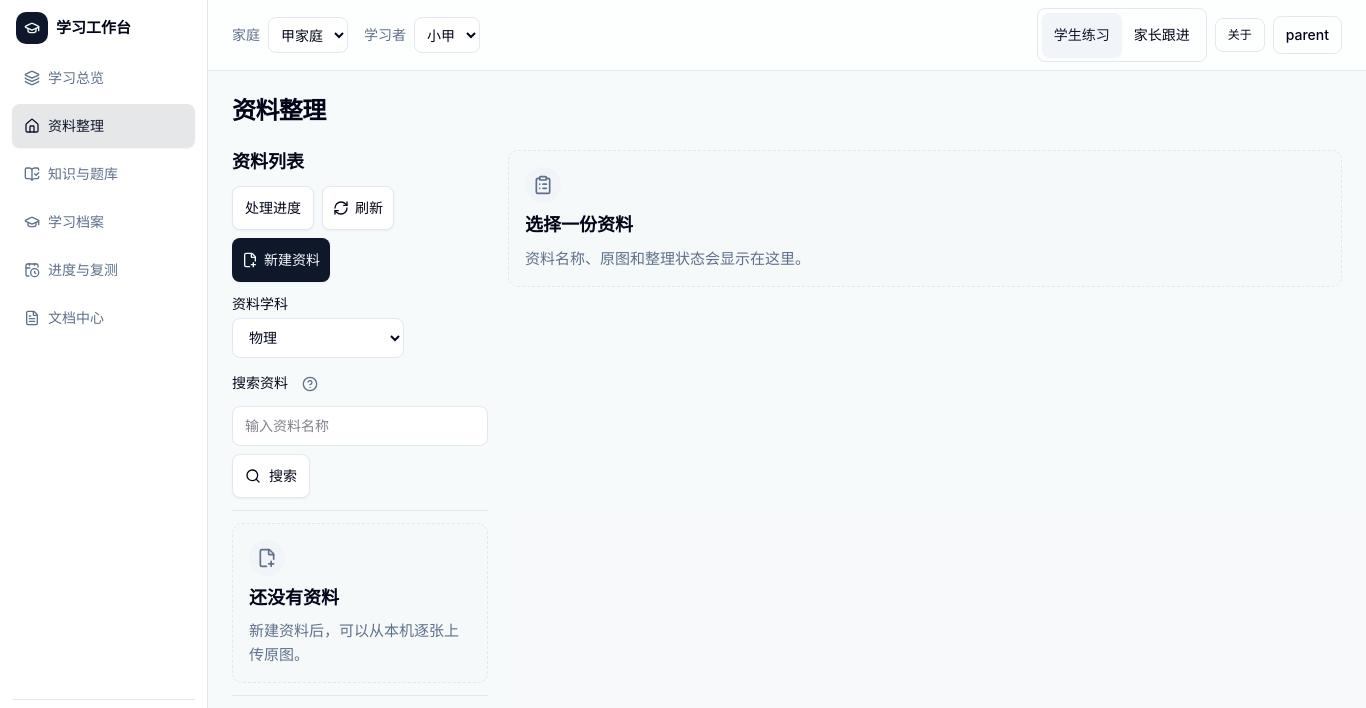
Scenario: App URL navigation › restores a material subject filter and clears it when switching household
Expected: the dropdown labelled "资料学科" shows "物理", [232,318,404,358]
Select "乙家庭" in the dropdown labelled "家庭". click: (308, 35)
box: [268,17,348,53]
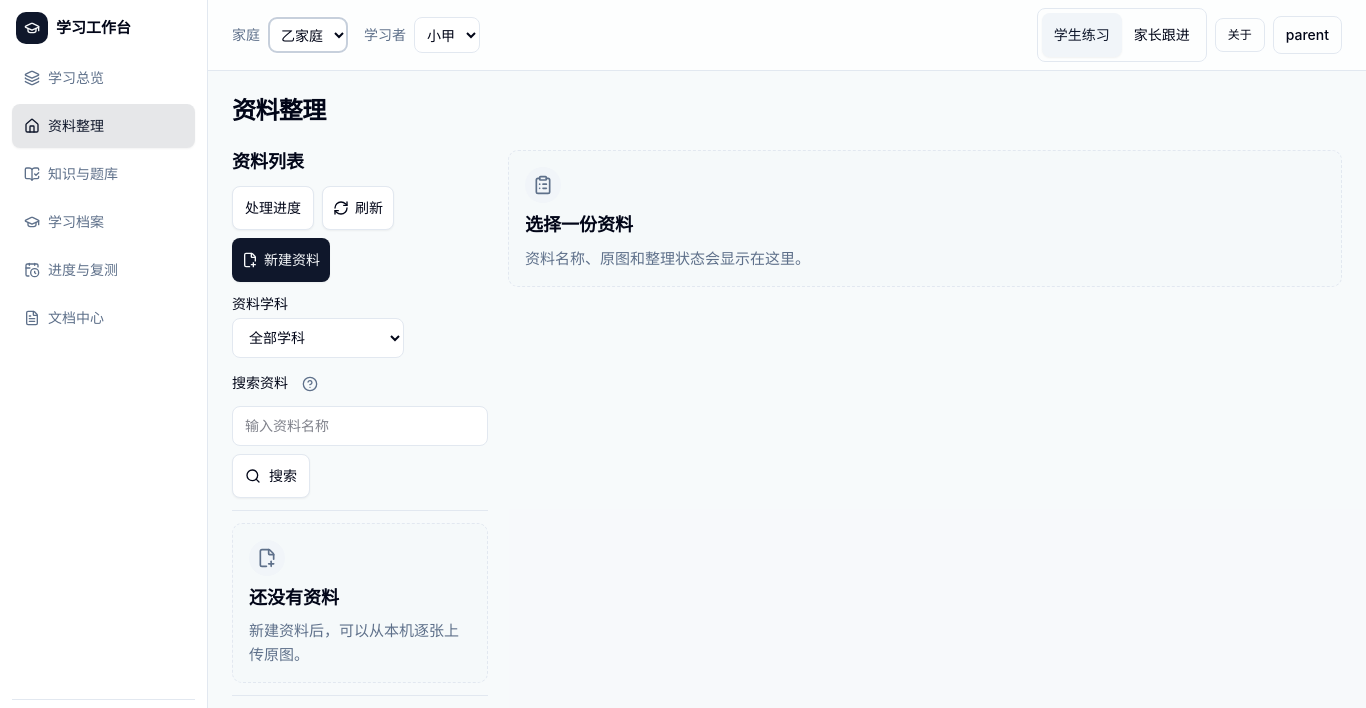
Expected: the dropdown labelled "资料学科" shows "全部学科", [232,318,404,358]
